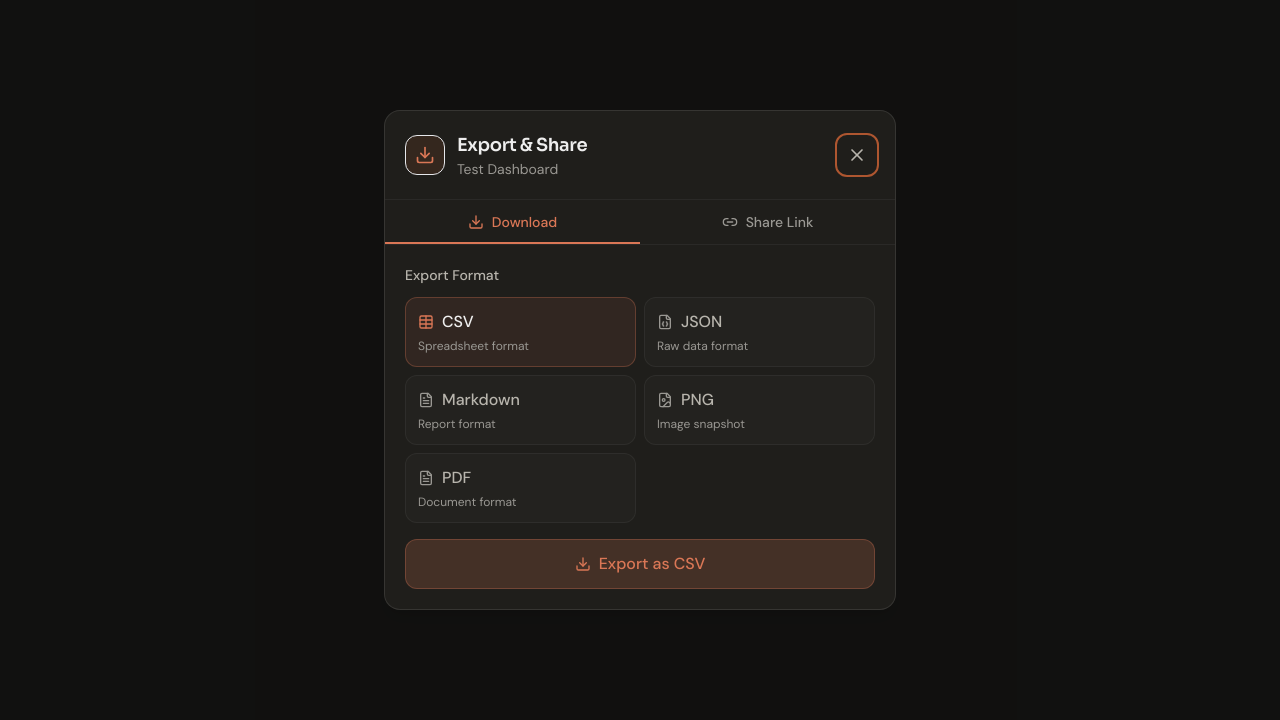
Test: ExportModal › format selection › should show warning for PNG format
Click the radio button "PNG" at x=760, y=410, box left=644, top=375, right=875, bottom=445
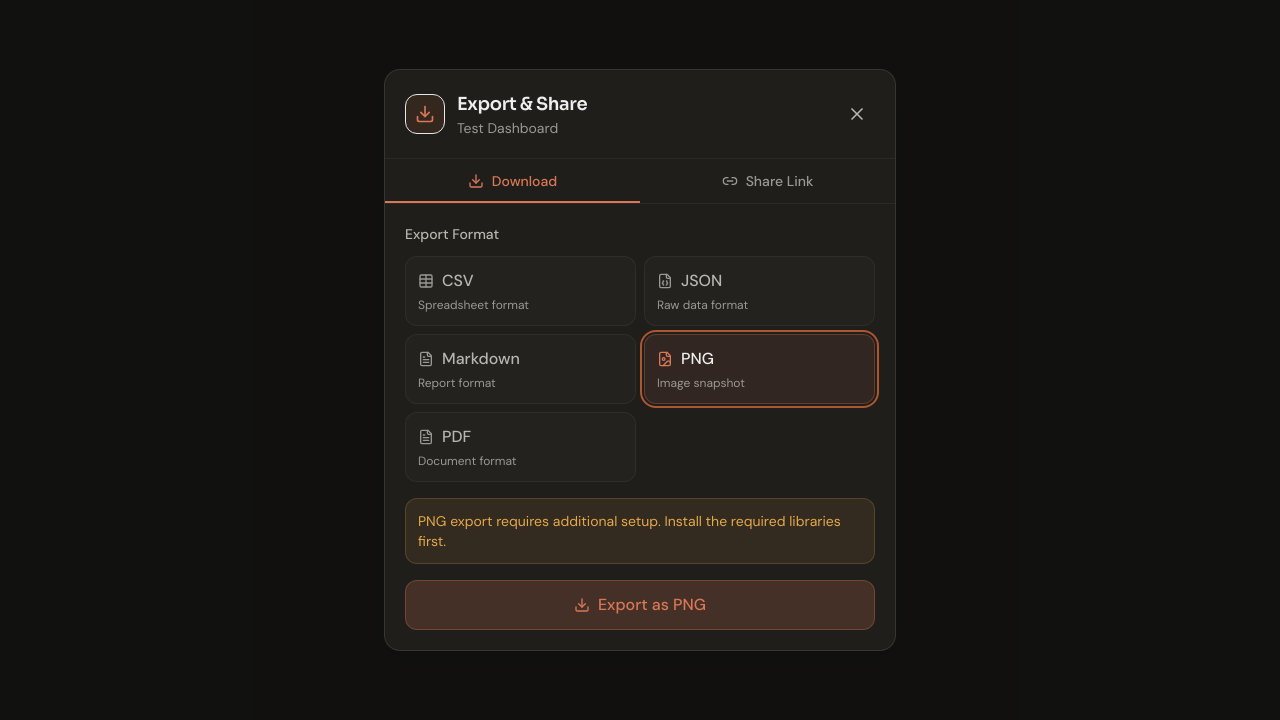
Expected: the text "requires additional setup" is shown, left=418, top=512, right=841, bottom=550
